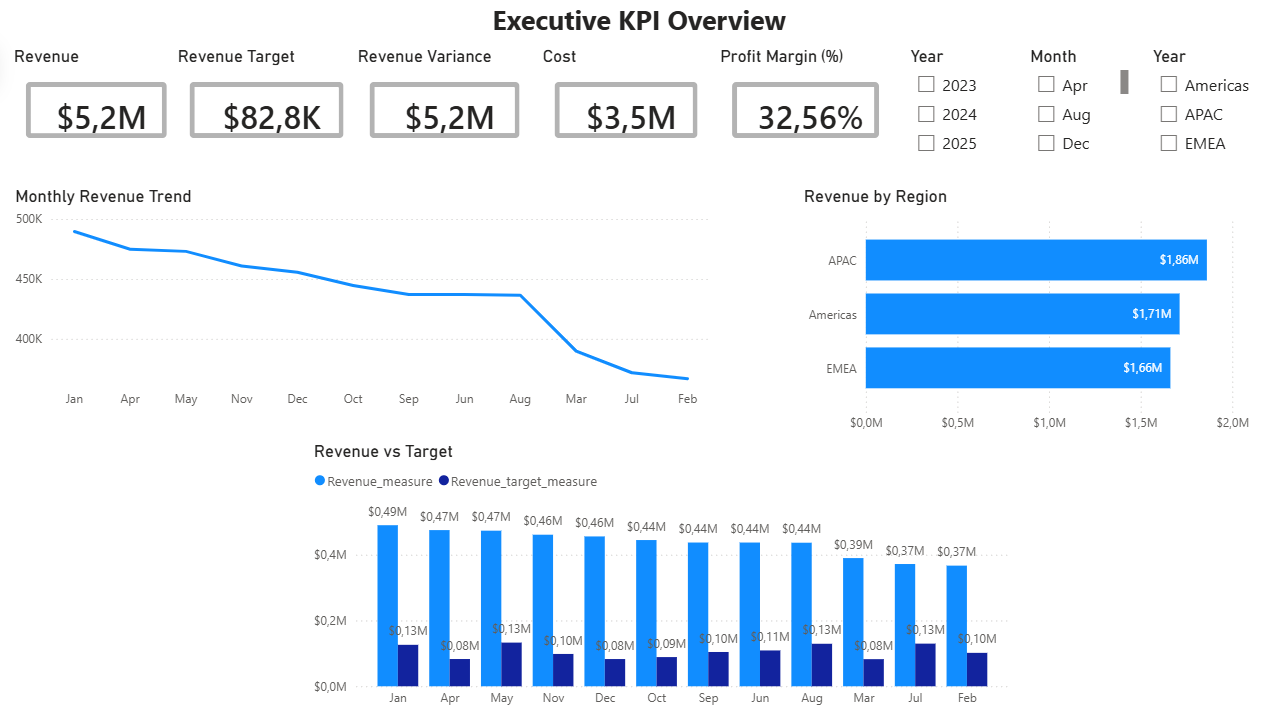

The dashboard page shown, as its layout file describes it:
{"tool":"powerbi","page":{"name":"Executive KPI Overview","canvas":[1280,720],"ordinal":0},"visuals":[{"type":"cardVisual","title":"Revenue","fields":{"Data":["Fact_Sales.Revenue_measure"]},"box":[10,50,175.7,110],"z":0},{"type":"textbox","box":[0,0,1280,49.8],"z":1},{"type":"cardVisual","title":"Revenue Target","fields":{"Data":["Fact_Sales.Revenue_target_measure"]},"box":[174.3,50,188.6,110],"z":2},{"type":"cardVisual","title":"Revenue Variance","fields":{"Data":["Fact_Sales.Revenue_variance_measure"]},"box":[354.3,50,184.3,110],"z":3},{"type":"cardVisual","title":"Cost","fields":{"Data":["Fact_Costs.Cost_measure"]},"box":[538.2,50.5,177.4,110.1],"z":4},{"type":"cardVisual","title":"Profit Margin (%)","fields":{"Data":["Fact_Sales.Profit_Margin_%"]},"box":[715.7,50,181.4,110],"z":5},{"type":"slicer","title":"Year","fields":{"Values":["Dim_Date.Year"]},"box":[906.7,50.5,108.6,139.1],"z":6},{"type":"slicer","title":"Month","fields":{"Values":["Dim_Date.MonthName"]},"box":[1026.7,50,108.3,121.7],"z":7},{"type":"slicer","title":"Year","fields":{"Values":["Dim_Region.Region"]},"box":[1148.2,50.5,120.8,139.1],"z":8},{"type":"lineChart","title":"Monthly Revenue Trend","fields":{"Category":["Dim_Date.MonthName"],"Y":["Sum(Fact_Sales.Revenue)"]},"box":[10.7,189.6,704.8,230.9],"z":9},{"type":"clusteredColumnChart","title":"Revenue vs Target","fields":{"Category":["Dim_Date.MonthName"],"Y":["Fact_Sales.Revenue_measure","Fact_Sales.Revenue_target_measure"]},"box":[310.4,444.9,704.8,275.2],"z":10},{"type":"barChart","title":"Revenue by Region","fields":{"Category":["Dim_Region.Region"],"Y":["Fact_Sales.Revenue_measure"]},"box":[799.6,189.6,469.4,255.3],"z":11}]}

Visuals, with their boxes in screenshot pixels (x1, y1, x2, y2), scaled from the page's 1280x720 canvas onto the 1276x710 screenshot:
"Revenue" cardVisual: 10 49 185 158
textbox: 0 0 1275 49
"Revenue Target" cardVisual: 174 49 362 158
"Revenue Variance" cardVisual: 353 49 537 158
"Cost" cardVisual: 537 50 713 158
"Profit Margin (%)" cardVisual: 713 49 894 158
"Year" slicer: 904 50 1012 187
"Month" slicer: 1023 49 1131 169
"Year" slicer: 1145 50 1265 187
"Monthly Revenue Trend" lineChart: 11 187 713 415
"Revenue vs Target" clusteredColumnChart: 309 439 1012 709
"Revenue by Region" barChart: 797 187 1265 439
